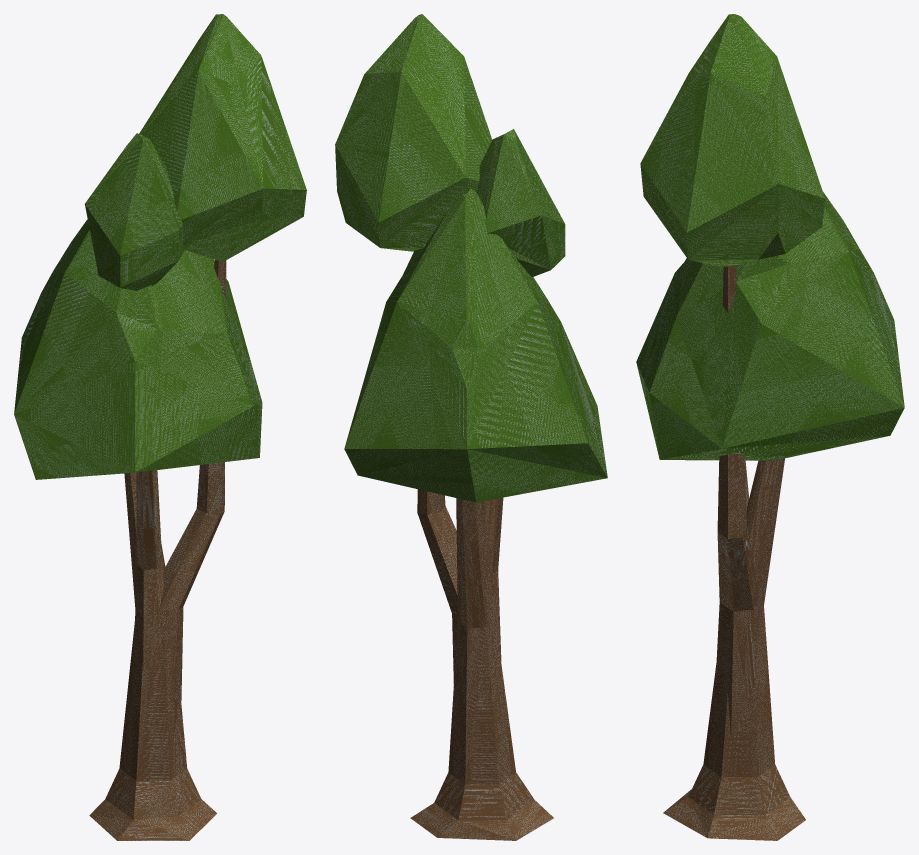
Rendered from Tree3.fbx.
The picture shows the model from 3 angles, left to right: view 1: azimuth 30°, elevation 25°; view 2: azimuth 150°, elevation 25°; view 3: azimuth 270°, elevation 25°; orthographic projection. The views are drawn at different scales.
Parts seen in each view (by area): view 1: Group6, Group5, Group2, Group7, Group4, Group3; view 2: Group6, Group5, Group2, Group7, Group4, Group3; view 3: Group6, Group5, Group2, Group4.
Part boxes in pixels (left/top/right/bottom): Group6: left=14, top=219, right=262, bottom=479; Group5: left=139, top=14, right=306, bottom=261; Group2: left=89, top=472, right=216, bottom=840; Group7: left=85, top=133, right=184, bottom=290; Group4: left=154, top=259, right=226, bottom=740; Group3: left=133, top=470, right=163, bottom=672; Group6: left=344, top=189, right=607, bottom=502; Group5: left=335, top=14, right=492, bottom=251; Group2: left=410, top=498, right=553, bottom=840; Group7: left=476, top=129, right=565, bottom=277; Group4: left=417, top=489, right=461, bottom=684; Group3: left=481, top=497, right=503, bottom=676; Group6: left=636, top=192, right=904, bottom=460; Group5: left=640, top=14, right=825, bottom=266; Group2: left=663, top=458, right=805, bottom=840; Group4: left=713, top=265, right=757, bottom=739.
Size of the model in its own units: 856 by 2560 by 749.
